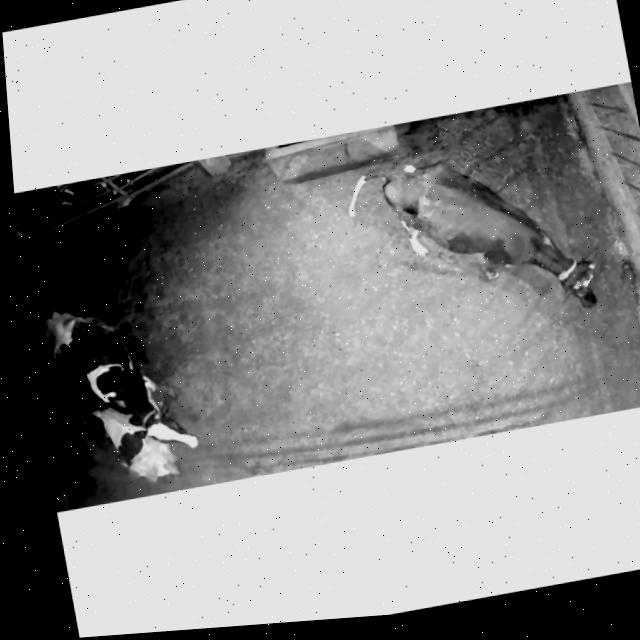stand: (332, 122, 613, 361), (27, 259, 219, 499)
